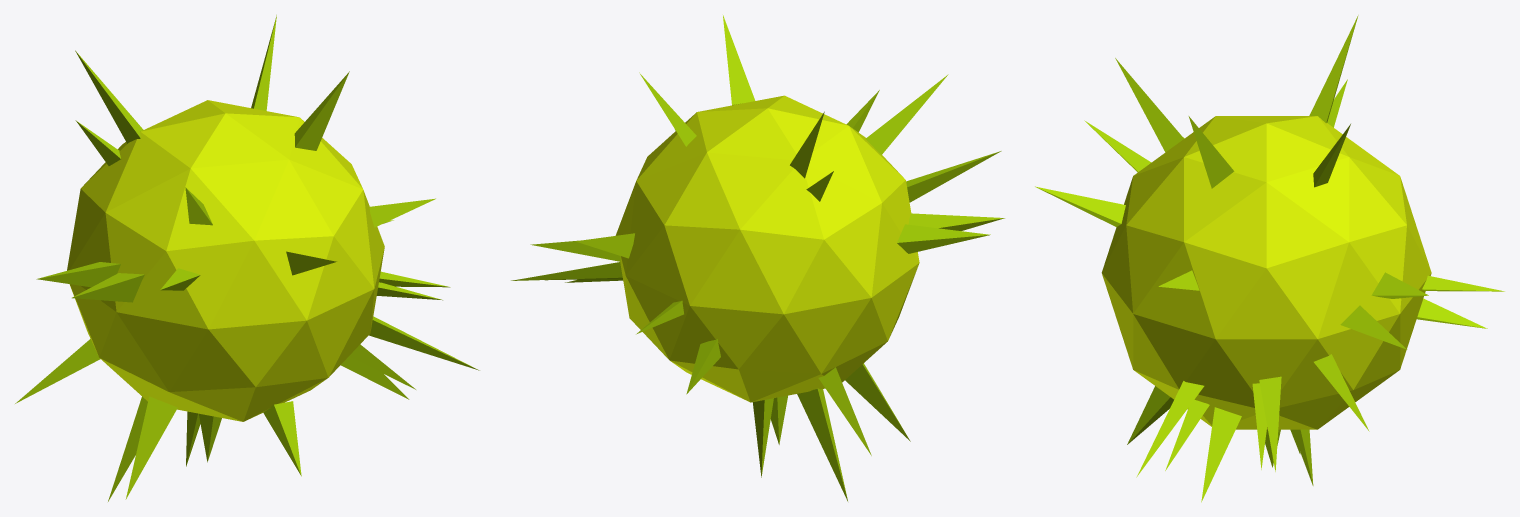
The model's file is sun_blue.glb.
3 renders of one model, left to right at view 1: azimuth 30°, elevation 25°; view 2: azimuth 150°, elevation 25°; view 3: azimuth 270°, elevation 25°, orthographic. The views are drawn at different scales.
Parts seen in each view (by area): view 1: sun_blue; view 2: sun_blue; view 3: sun_blue.
Part boxes in pixels (box(x1,y1,x2,y2)): sun_blue: box(15, 15, 479, 501); sun_blue: box(511, 15, 1004, 501); sun_blue: box(1035, 15, 1504, 502).
Bounding box in the file's own units: 3.13 × 2.94 × 2.86.
